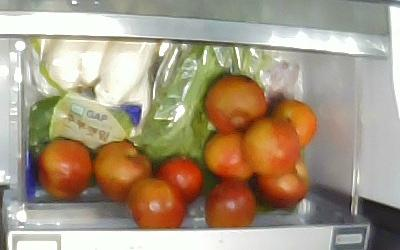prune: (203, 76, 268, 133), (92, 142, 152, 200), (242, 118, 299, 174), (39, 137, 92, 197), (127, 178, 185, 229), (204, 133, 259, 186), (253, 161, 309, 210), (269, 101, 318, 149), (155, 155, 203, 201), (205, 182, 254, 225)
